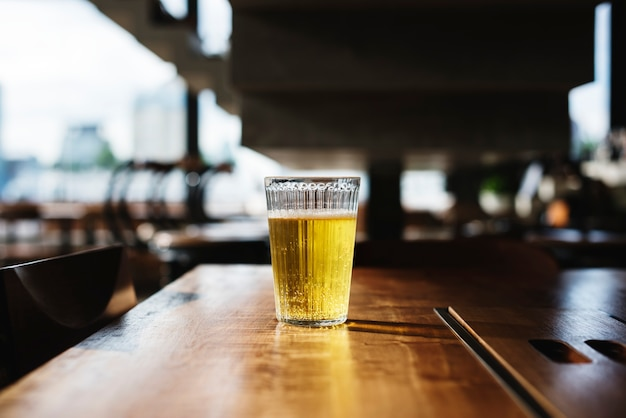alcohol: (260, 175, 363, 329)
